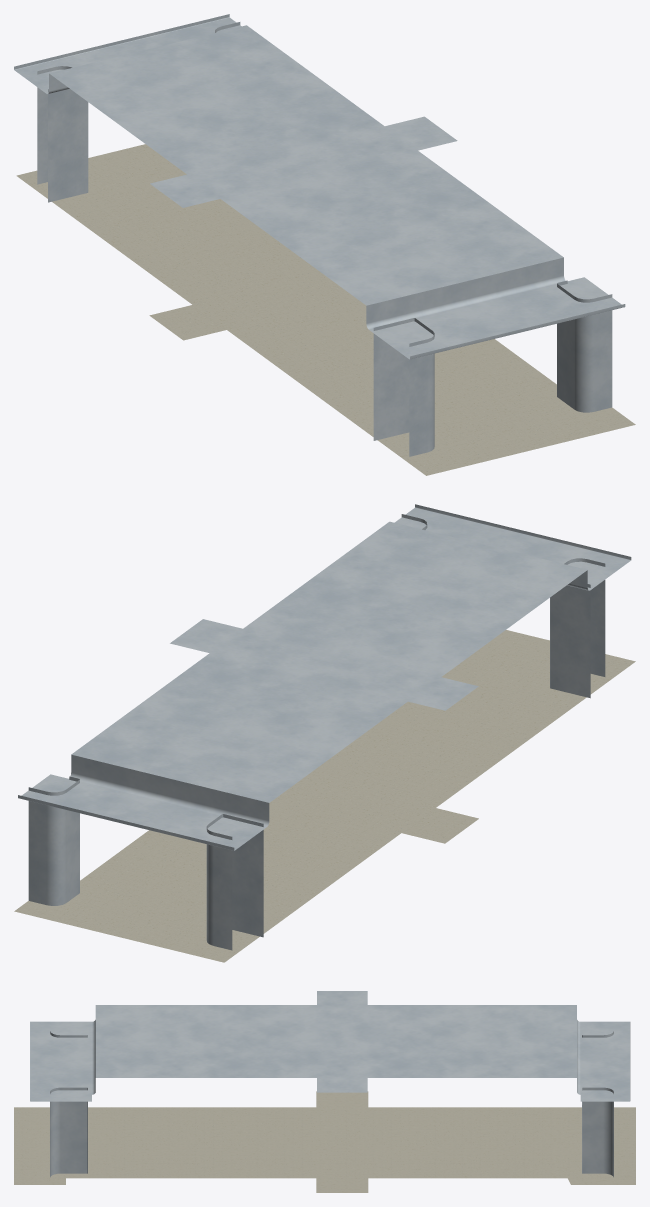
File: Lvl2ElevatorLobby.fbx
3 renders of one model, top to bottom at view 1: azimuth 30°, elevation 25°; view 2: azimuth 150°, elevation 25°; view 3: azimuth 270°, elevation 25°, orthographic. The views are drawn at different scales.
Parts seen in each view (by area): view 1: Lvl2ElevatorLobbyCeiling, Lvl2_Floor__84_1, pCube164, pCube165, pCube163; view 2: Lvl2ElevatorLobbyCeiling, Lvl2_Floor__84_1, pCube165, pCube164, pCube162; view 3: Lvl2ElevatorLobbyCeiling, Lvl2_Floor__84_1, pCube163, pCube162.
Boxes of the visible parts, x1,y1,x2,y2 form: Lvl2ElevatorLobbyCeiling: (14, 14, 625, 359); Lvl2_Floor__84_1: (16, 144, 635, 475); pCube164: (373, 318, 434, 456); pCube165: (37, 66, 88, 202); pCube163: (557, 280, 612, 412); Lvl2ElevatorLobbyCeiling: (18, 504, 631, 850); Lvl2_Floor__84_1: (14, 630, 635, 962); pCube165: (206, 814, 263, 950); pCube164: (550, 558, 605, 698); pCube162: (28, 776, 79, 905); Lvl2ElevatorLobbyCeiling: (30, 991, 630, 1101); Lvl2_Floor__84_1: (14, 1091, 635, 1192); pCube163: (50, 1087, 87, 1177); pCube162: (582, 1087, 613, 1177).
Size of the model in its own units: 1016 by 467 by 2625.
